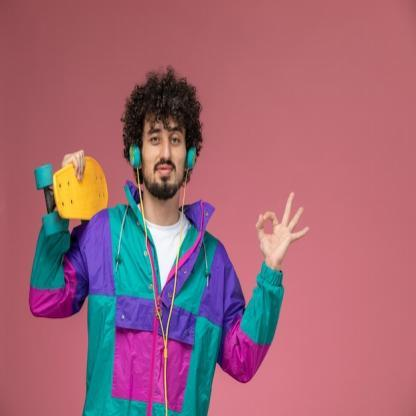ok: (254, 186, 312, 270)
